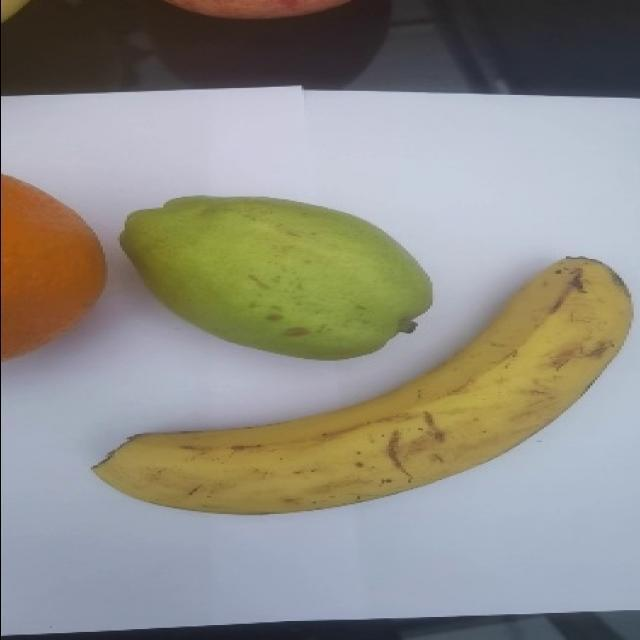Banana: (93, 254, 640, 519)
Orange: (0, 171, 117, 364)
